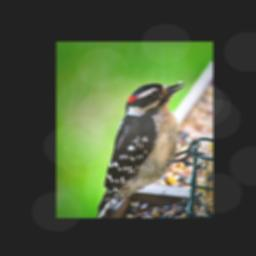Woodpecker: (96, 82, 205, 218)
